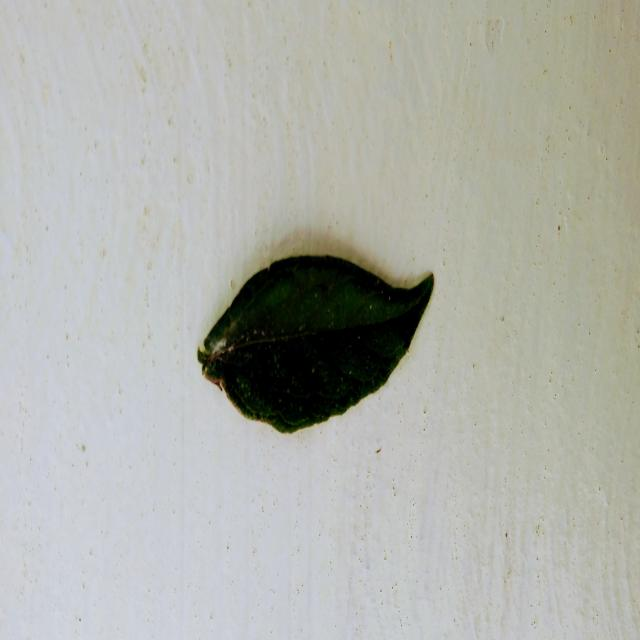Parijatha: (198, 256, 434, 431)
